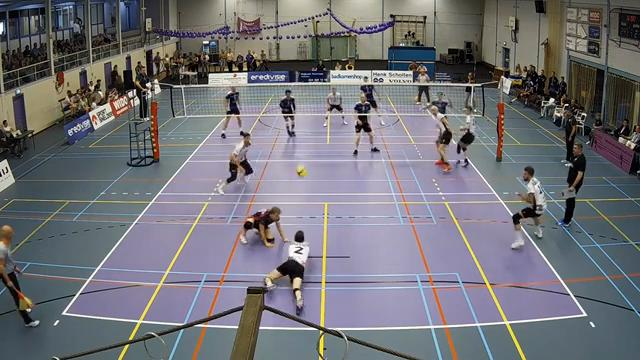Dig: (260, 229, 313, 314)
Player: (511, 166, 545, 248), (217, 133, 252, 194), (240, 206, 287, 246), (353, 93, 378, 154), (429, 106, 452, 171), (221, 87, 245, 138), (360, 76, 384, 125), (456, 106, 475, 166), (323, 87, 346, 126), (279, 89, 295, 136), (432, 93, 450, 113)
ball: (297, 166, 306, 177)
